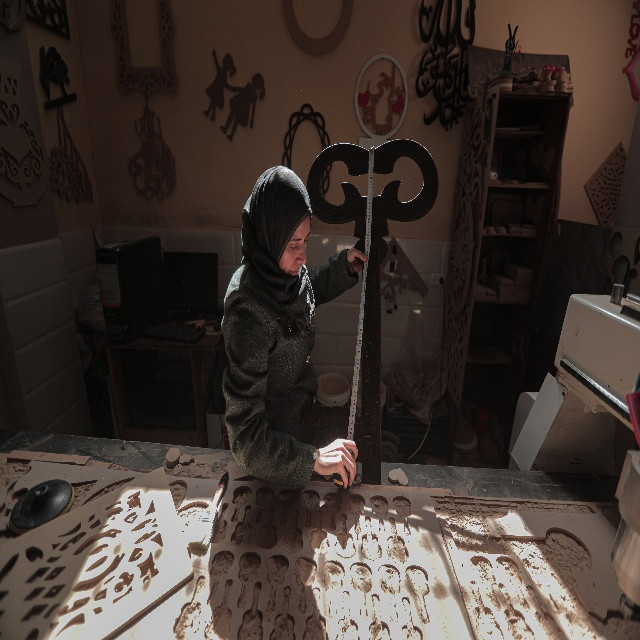Sin_guantes: (313, 437, 358, 490), (347, 243, 368, 272)
